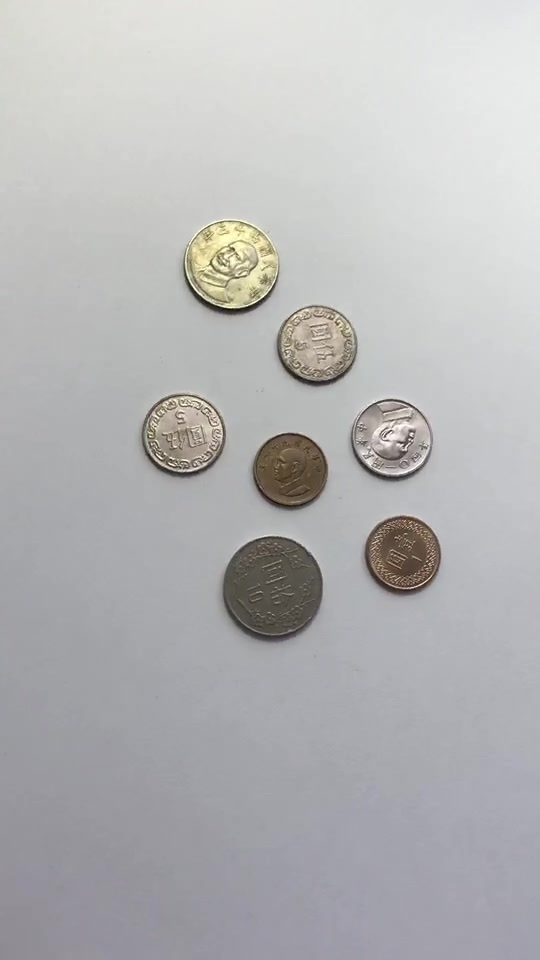1 dallar: (359, 507, 450, 603), (244, 419, 335, 515)
10 dallar: (162, 204, 286, 320), (205, 529, 329, 645)
5 dallar: (136, 379, 228, 485), (266, 292, 358, 398), (347, 385, 439, 491)
